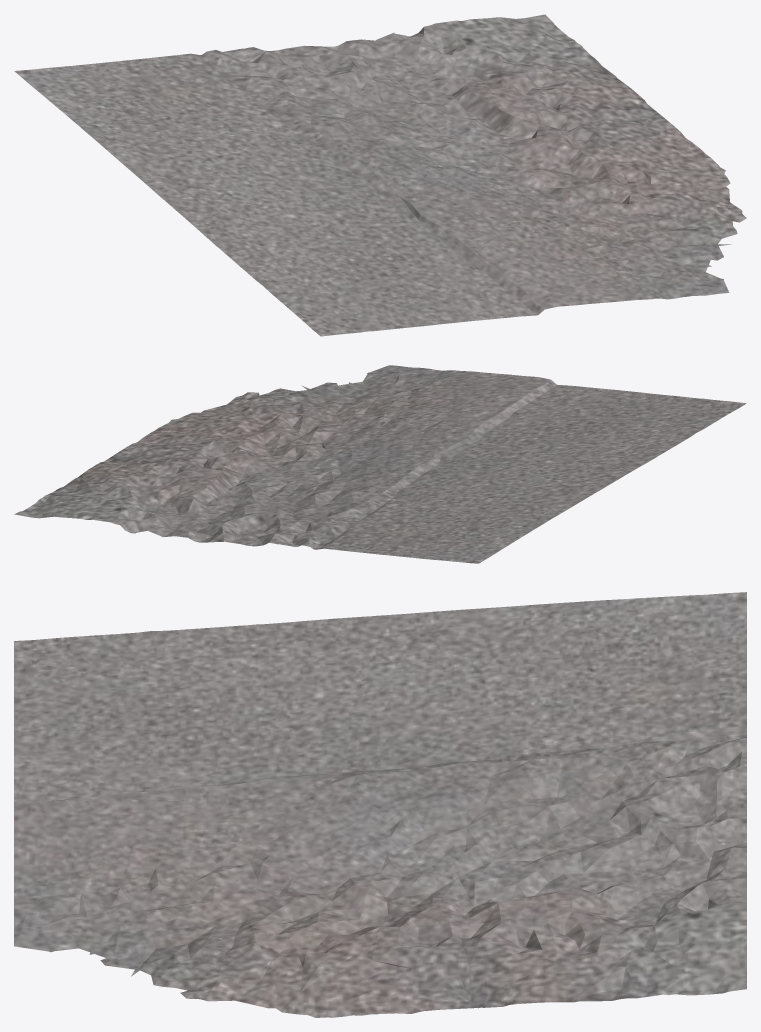
The picture shows the model from 3 angles, top to bottom: view 1: azimuth 30°, elevation 25°; view 2: azimuth 150°, elevation 25°; view 3: azimuth 270°, elevation 25°; orthographic projection. The views are drawn at different scales.
Size of the model in its own units: 1.67 by 0.2925 by 1.67.
3 materials, 3 textured.
